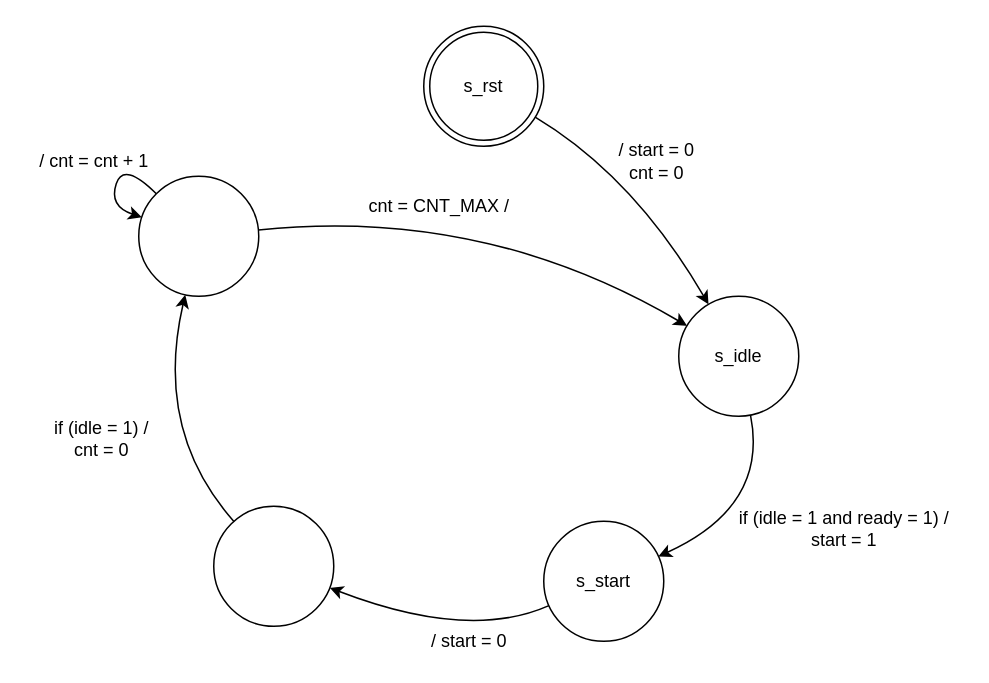
Image size: 989x683. Some labels were removed from this diagram. The box of each missing label's shape, as (x1, y1, x2, y2) in pixels:
s_wait _idle: (212, 505, 334, 626)
s_wait_time: (137, 175, 259, 296)
